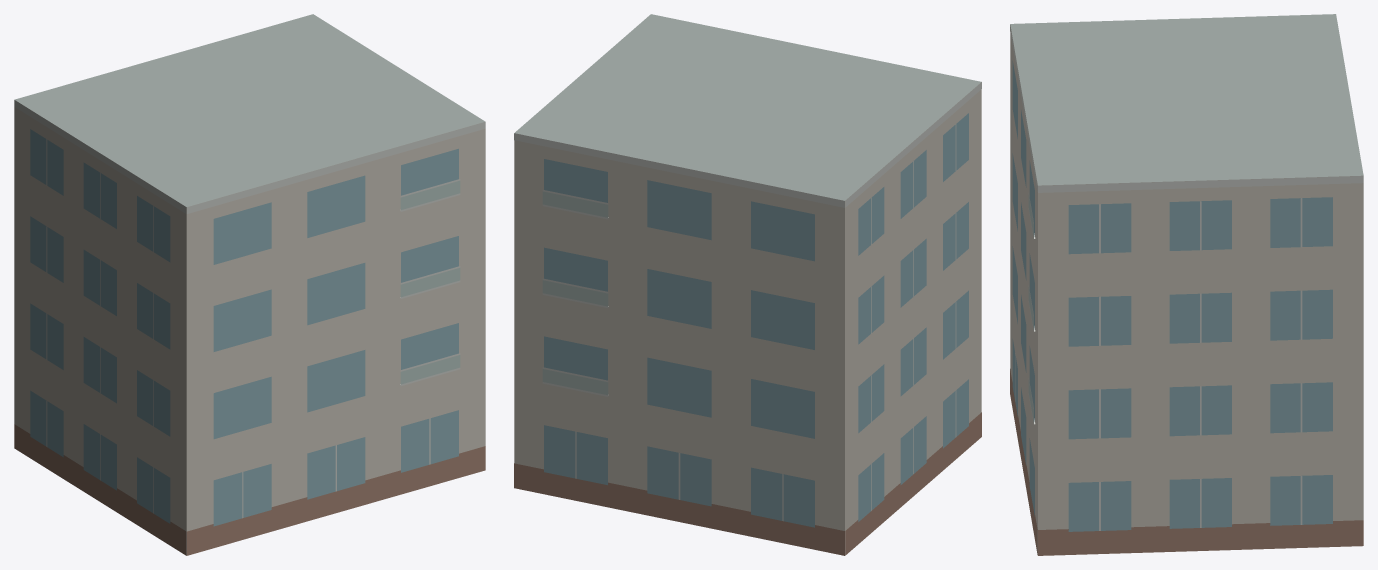
File: residential-ec431a96-cc9b-4356-8162-03f811a46555.glb
3 renders of one model, left to right at view 1: azimuth 30°, elevation 25°; view 2: azimuth 150°, elevation 25°; view 3: azimuth 270°, elevation 25°, orthographic. The views are drawn at different scales.
Visible parts, largest first — view 1: residential-ec431a96-cc9b-4356-8162-03f811a46555.tmp; view 2: residential-ec431a96-cc9b-4356-8162-03f811a46555.tmp; view 3: residential-ec431a96-cc9b-4356-8162-03f811a46555.tmp.
Part boxes in pixels (left/top/right/bottom): residential-ec431a96-cc9b-4356-8162-03f811a46555.tmp: left=14, top=14, right=485, bottom=555; residential-ec431a96-cc9b-4356-8162-03f811a46555.tmp: left=514, top=14, right=981, bottom=555; residential-ec431a96-cc9b-4356-8162-03f811a46555.tmp: left=1010, top=14, right=1363, bottom=555.
Size of the model in its own units: 12.13 by 12.2 by 10.57.
